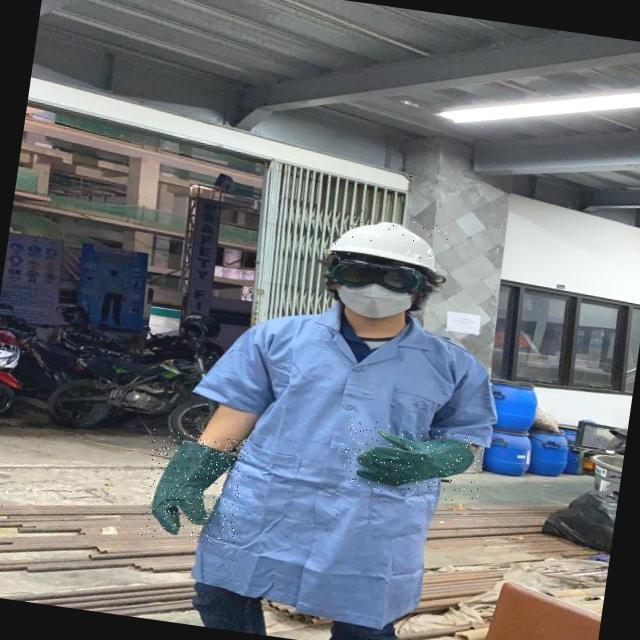gloves: (138, 417, 232, 556)
helmet: (320, 210, 450, 276)
no-vest: (200, 277, 468, 638)
